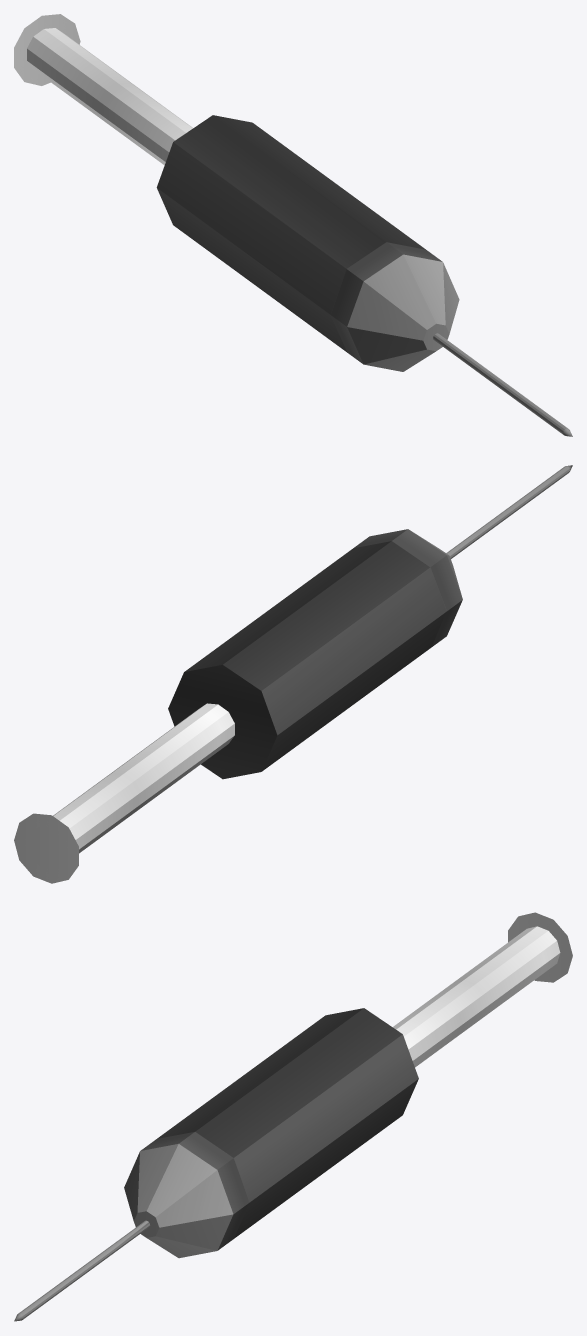
File: jeringacontextura.fbx
The picture shows the model from 3 angles, top to bottom: view 1: azimuth 30°, elevation 25°; view 2: azimuth 150°, elevation 25°; view 3: azimuth 330°, elevation 25°; orthographic projection. The views are drawn at different scales.
Visible parts, largest first — view 1: pCylinder5; view 2: pCylinder5; view 3: pCylinder5.
Boxes of the visible parts, box(x1,y1,x2,y2) form: pCylinder5: box(14, 14, 572, 436); pCylinder5: box(14, 465, 572, 883); pCylinder5: box(14, 912, 572, 1321).
Bounding box in the file's own units: 0.0501 × 0.0501 × 0.412.
1 material, 1 textured.
